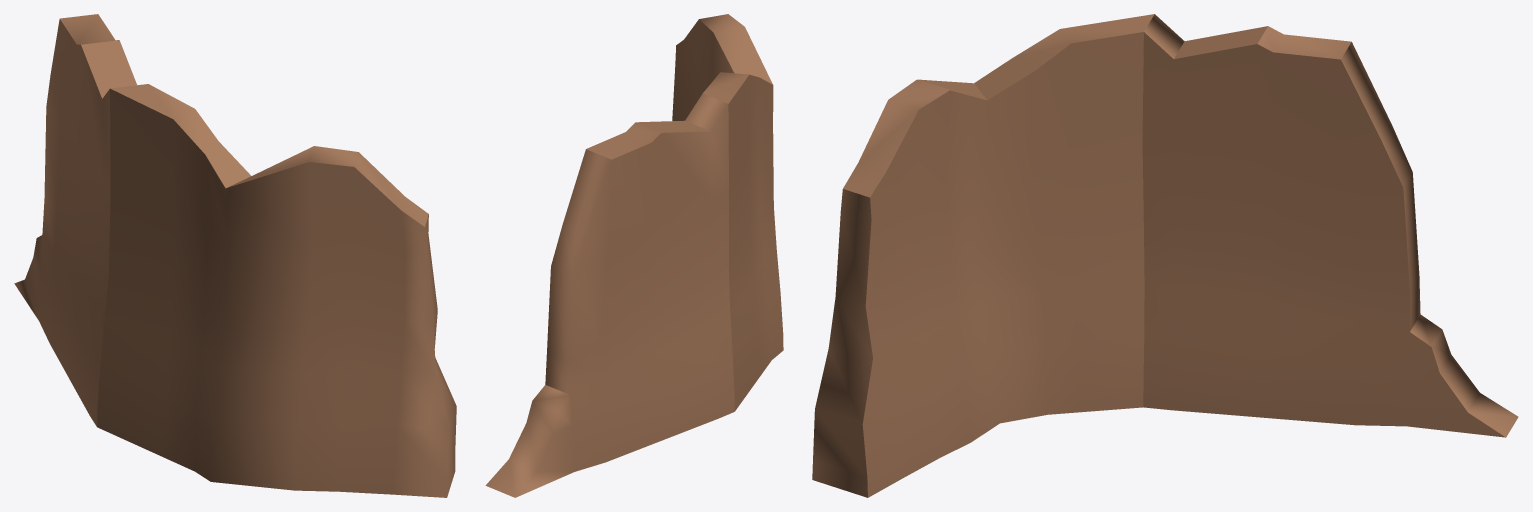
The model's file is Mur2.fbx.
The picture shows the model from 3 angles, left to right: view 1: azimuth 30°, elevation 25°; view 2: azimuth 150°, elevation 25°; view 3: azimuth 270°, elevation 25°; orthographic projection. The views are drawn at different scales.
Visible parts, largest first — view 1: Cube.097; view 2: Cube.097; view 3: Cube.097.
Boxes of the visible parts, x1=… form: Cube.097: x1=14, y1=14, x2=456, y2=497; Cube.097: x1=485, y1=14, x2=783, y2=497; Cube.097: x1=812, y1=14, x2=1518, y2=497.
Bounding box in the file's own units: 336 × 487 × 841.
